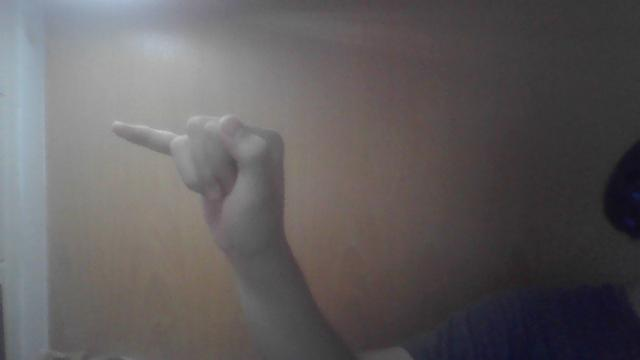Right: (109, 111, 295, 253)
